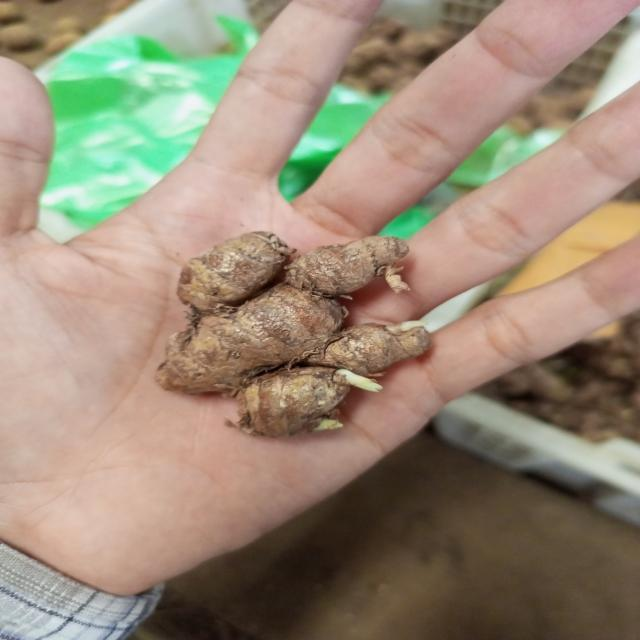ginger: (174, 234, 419, 423)
